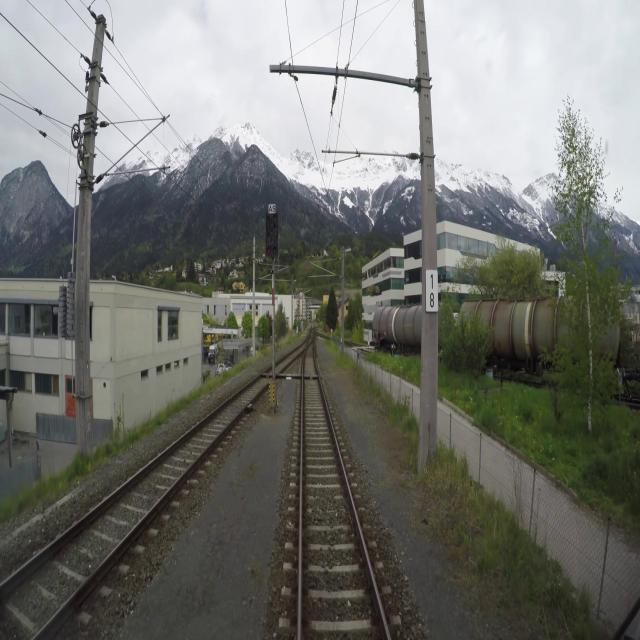rail-track: (0, 369, 272, 639), (303, 343, 386, 639)
